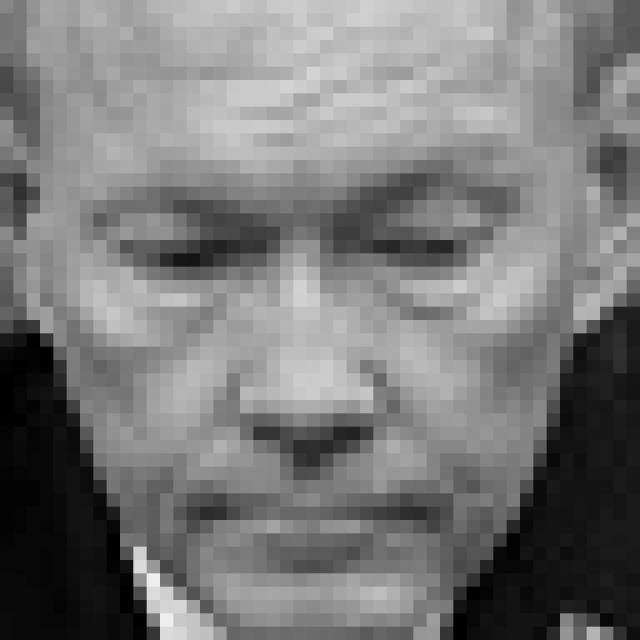sad: (84, 130, 509, 578)
